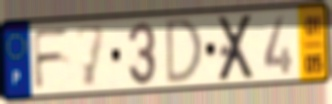3: (126, 20, 158, 87)
4: (262, 14, 295, 78)
7: (74, 22, 107, 91)
D: (165, 16, 205, 88)
F: (30, 26, 72, 93)
X: (216, 11, 257, 84)
